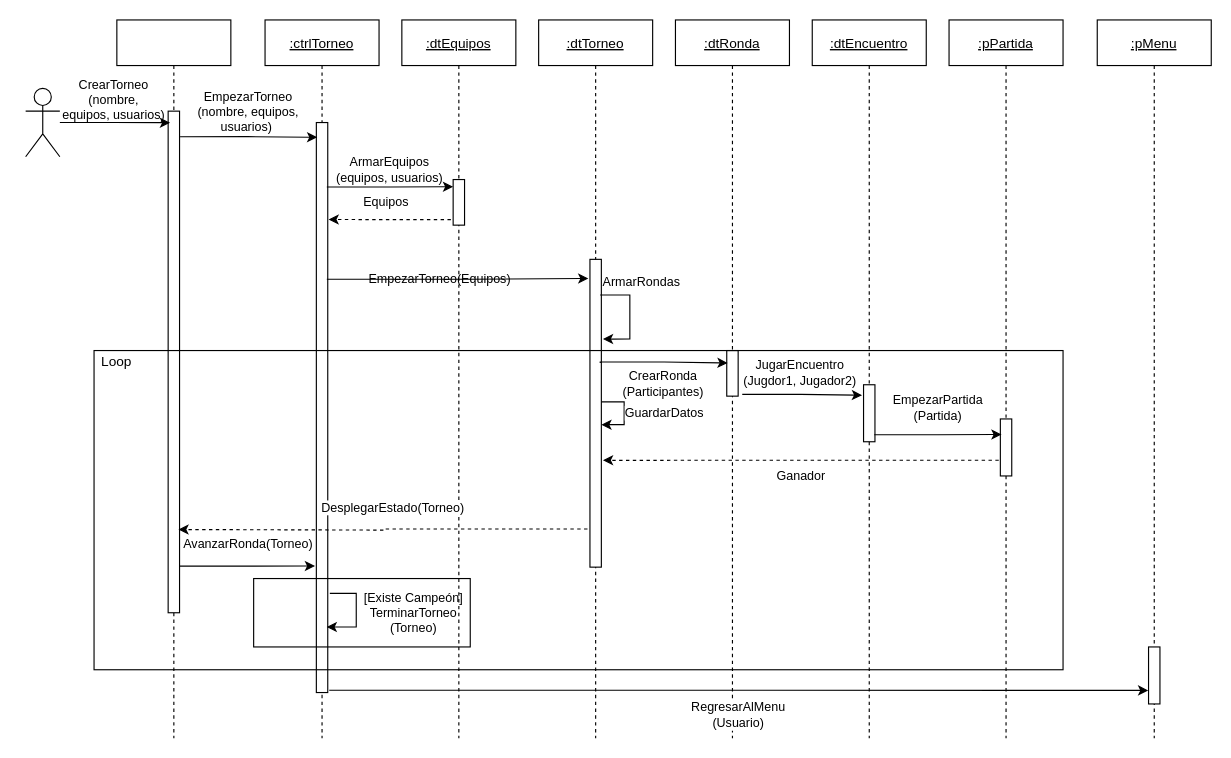
The diagram is 1231 pixels wide and 758 high, and some of its shapes have lost their labels. Here are the shapes that lost their labels. From the top down, the box of each, then its label:
(25, 87, 60, 157): Usuario
(116, 19, 231, 738): :pTorneo
(253, 577, 470, 647): Break
